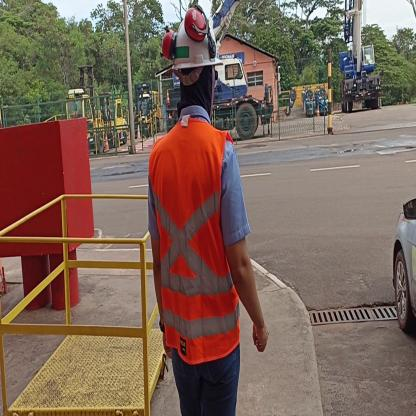Balaclava: (178, 65, 216, 117)
Capacete: (171, 15, 223, 66)
colete: (152, 127, 242, 358)
